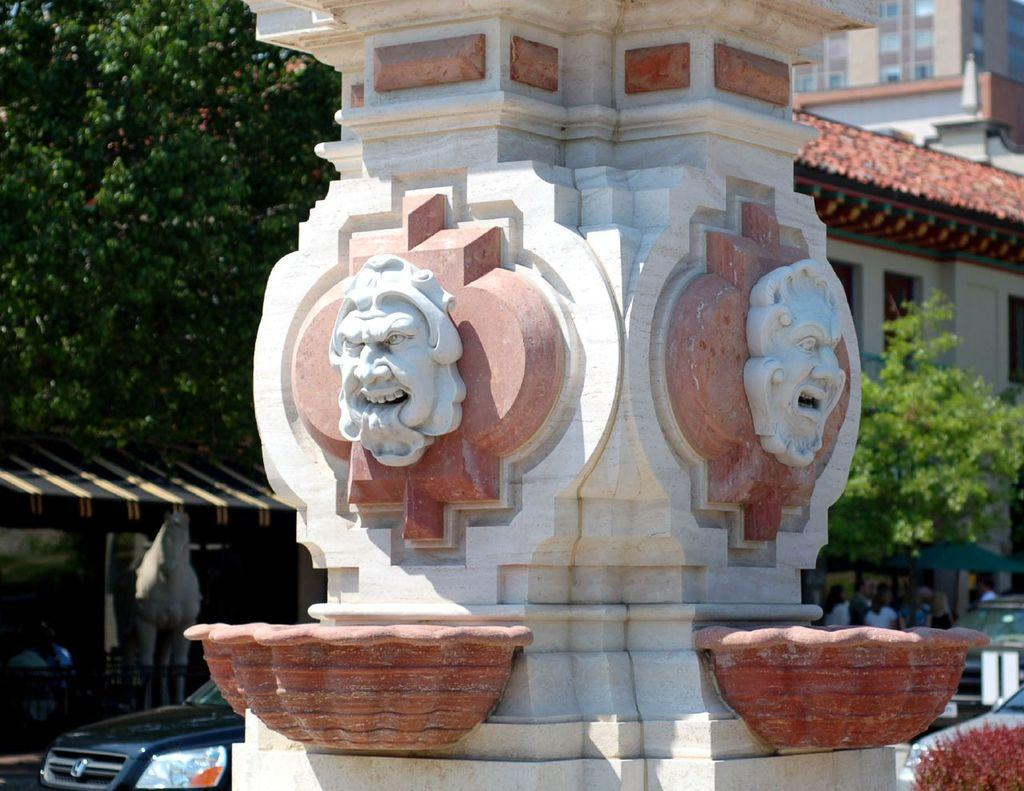Sem Máscara: (331, 297, 427, 464), (774, 288, 841, 445)
